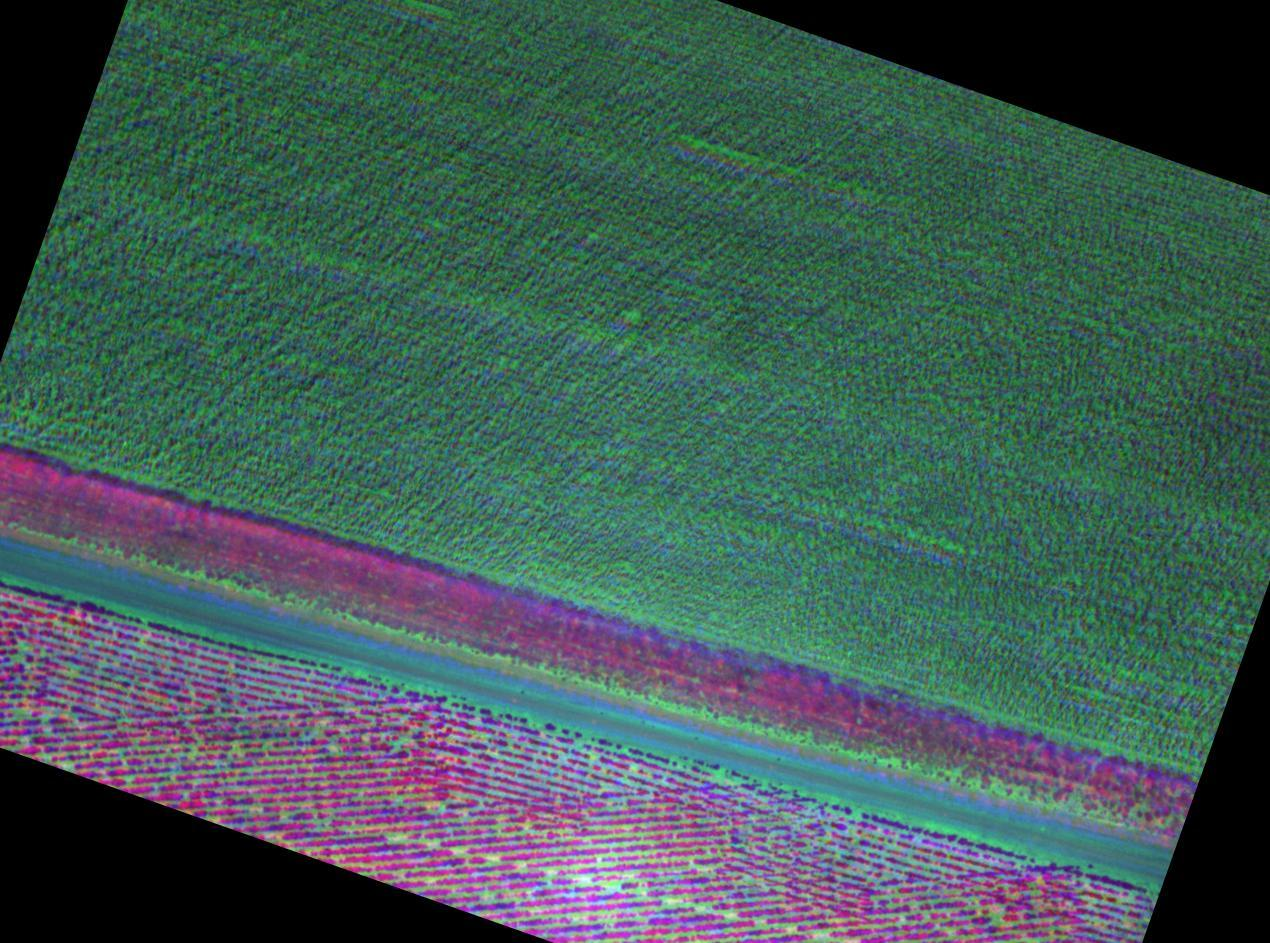dc: (668, 898, 674, 906), (728, 912, 734, 920), (584, 876, 589, 883), (395, 741, 400, 747), (394, 835, 400, 840), (459, 849, 463, 855), (235, 748, 239, 752)
